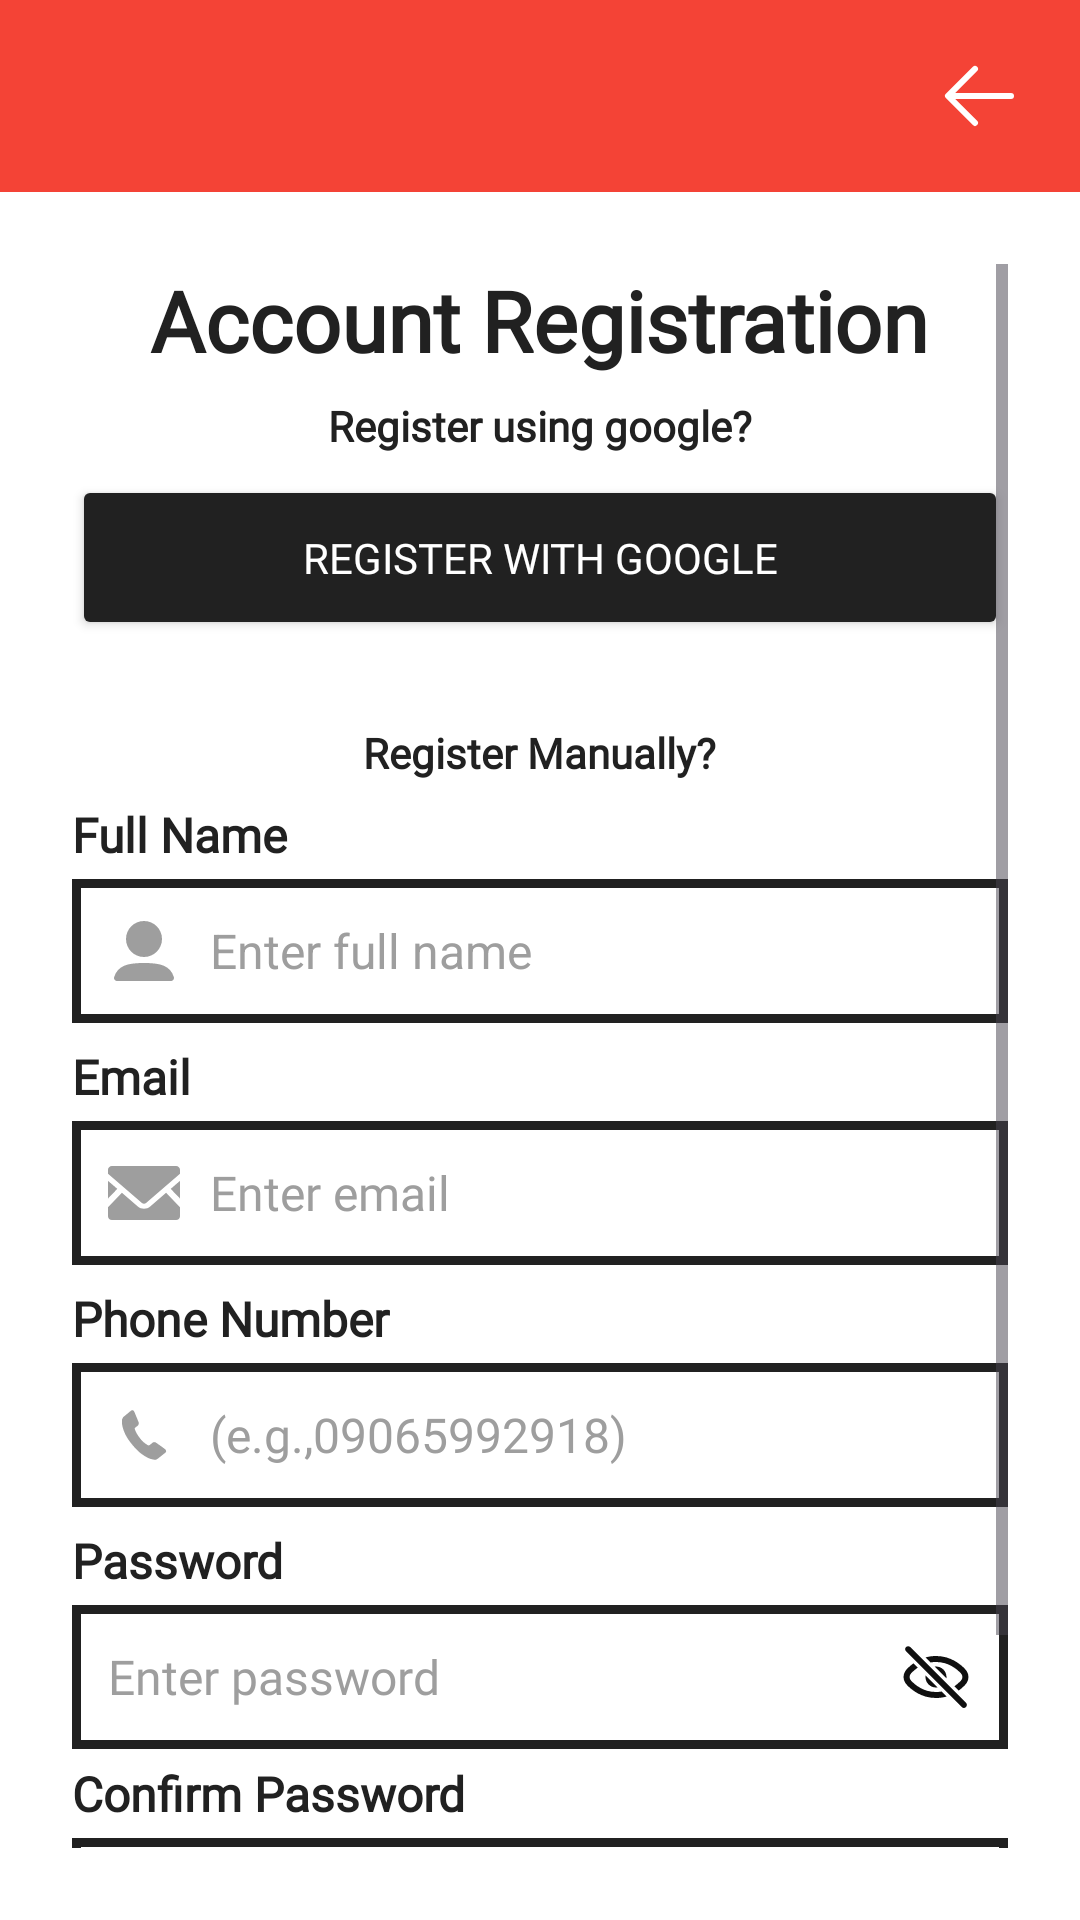

Where icons sit on this 1080px x 1920px app screen, as bbox=(x1, y1, x2, y2):
Back to Home: bbox=(944, 65, 1014, 126)
